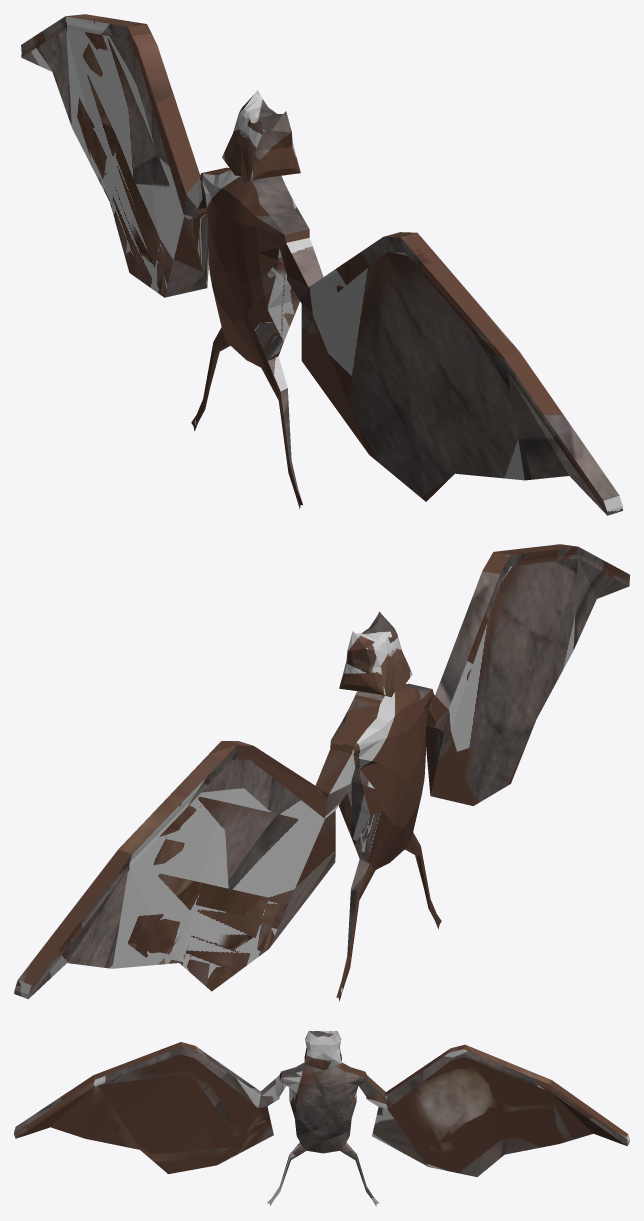
Rendered from Enemigo127.obj.
3 renders of one model, top to bottom at view 1: azimuth 30°, elevation 25°; view 2: azimuth 150°, elevation 25°; view 3: azimuth 270°, elevation 25°, orthographic. The views are drawn at different scales.
Parts seen in each view (by area): view 1: Plano; view 2: Plano; view 3: Plano.
Part boxes in pixels (x1,y1,x2,y2): Plano: [21, 14, 622, 515]; Plano: [14, 544, 629, 1001]; Plano: [14, 1030, 629, 1206].
Bounding box in the file's own units: 0.2611 × 0.7578 × 2.32.
Materials: 1 (1 with a texture image).
